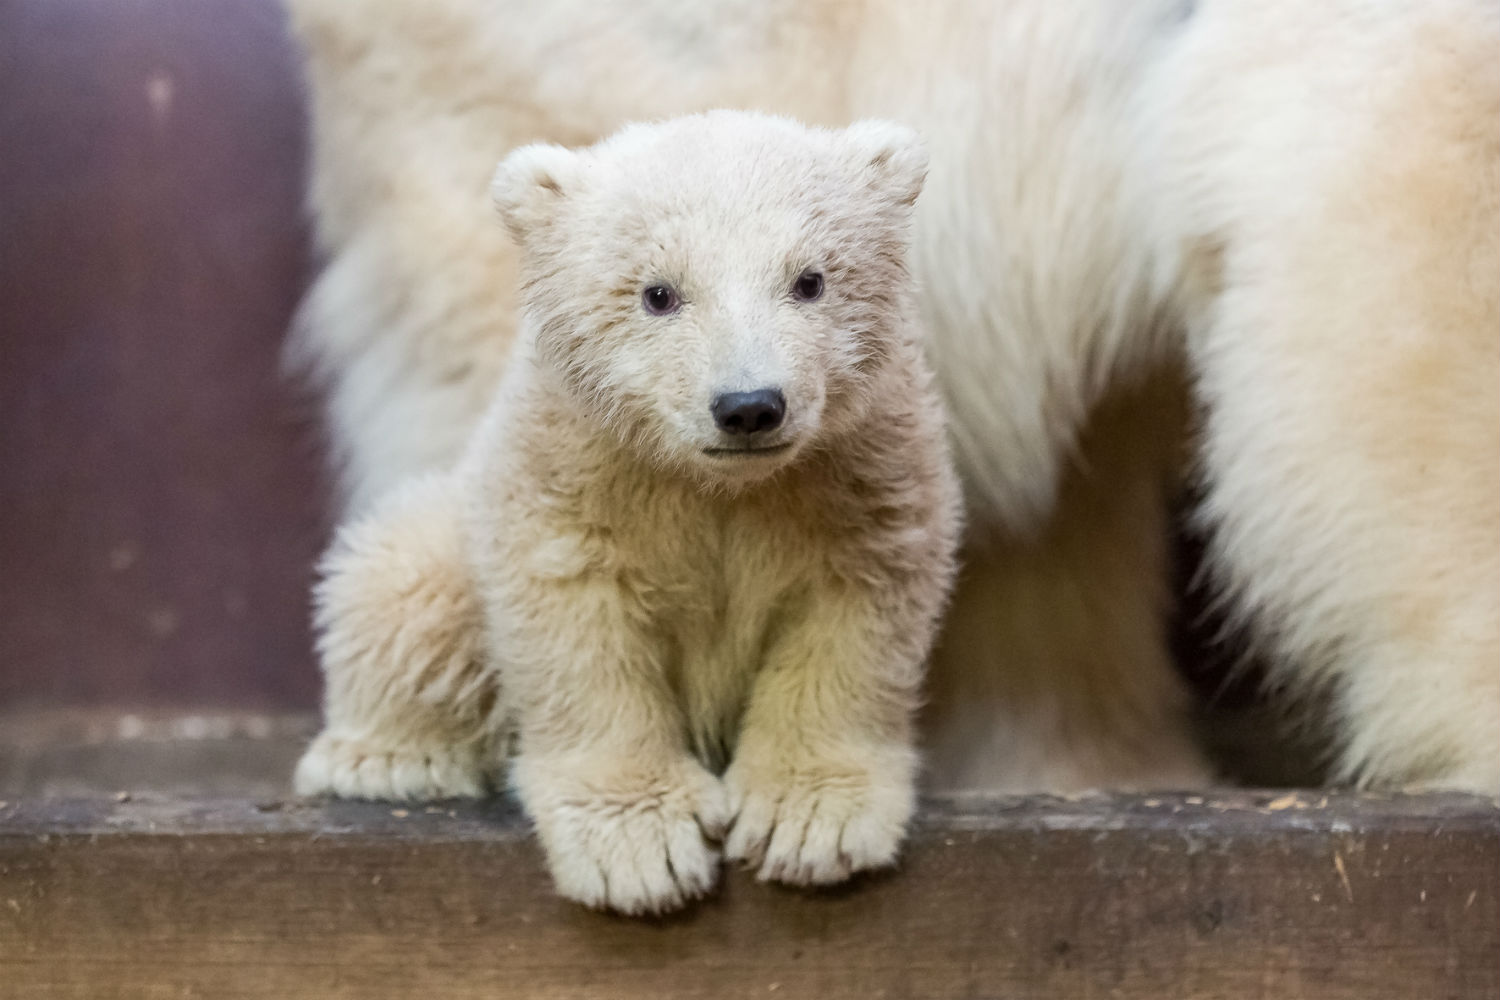Polar Bear: (461, 105, 948, 973)
